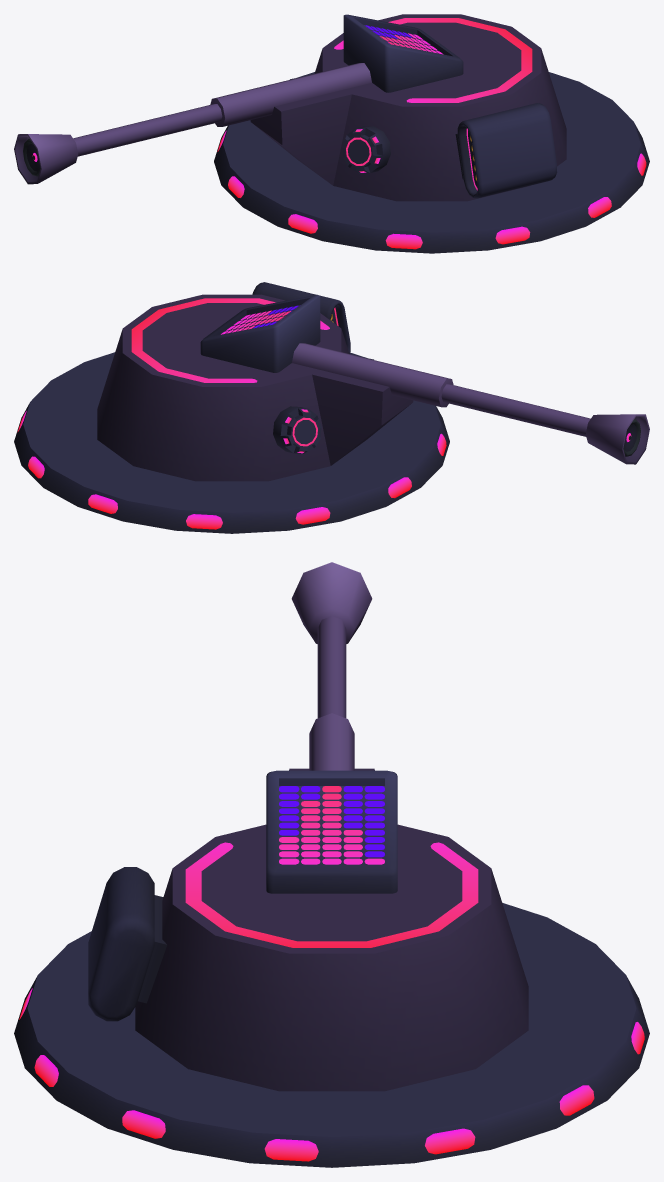
Rendered from purple_01.fbx.
3 renders of one model, top to bottom at view 1: azimuth 30°, elevation 25°; view 2: azimuth 150°, elevation 25°; view 3: azimuth 270°, elevation 25°, orthographic. The views are drawn at different scales.
Visible parts, largest first — view 1: Circle.014, purple_01; view 2: Circle.014, purple_01; view 3: Circle.014, purple_01.
Boxes of the visible parts, x1,y1,x2,y2 form: Circle.014: [14, 14, 566, 201]; purple_01: [214, 72, 649, 253]; Circle.014: [97, 282, 649, 481]; purple_01: [14, 352, 449, 533]; Circle.014: [88, 562, 528, 1091]; purple_01: [14, 903, 649, 1167].
Bounding box in the file's own units: 807 × 192 × 514.
